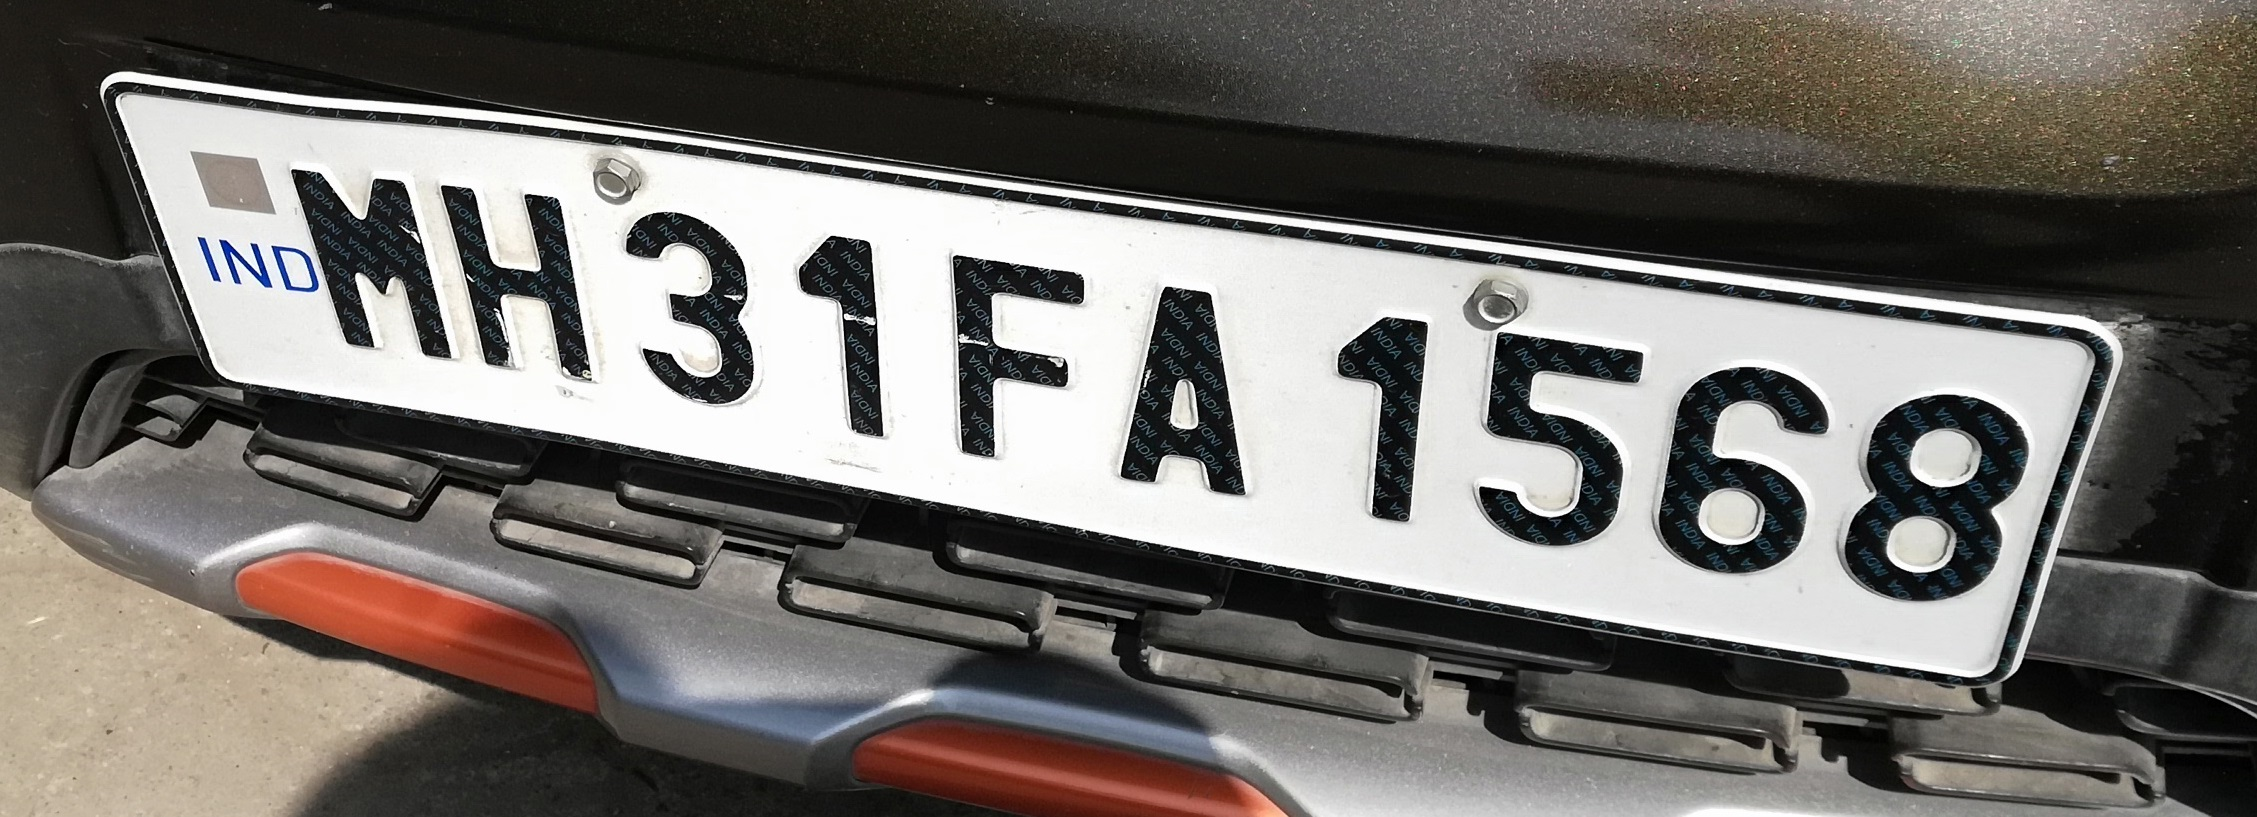numberplate: (76, 50, 2125, 721)
